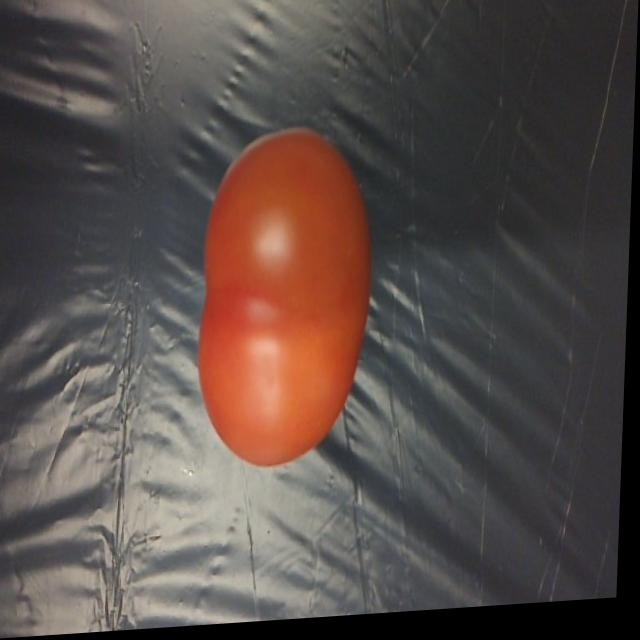sari: (185, 106, 378, 491)
